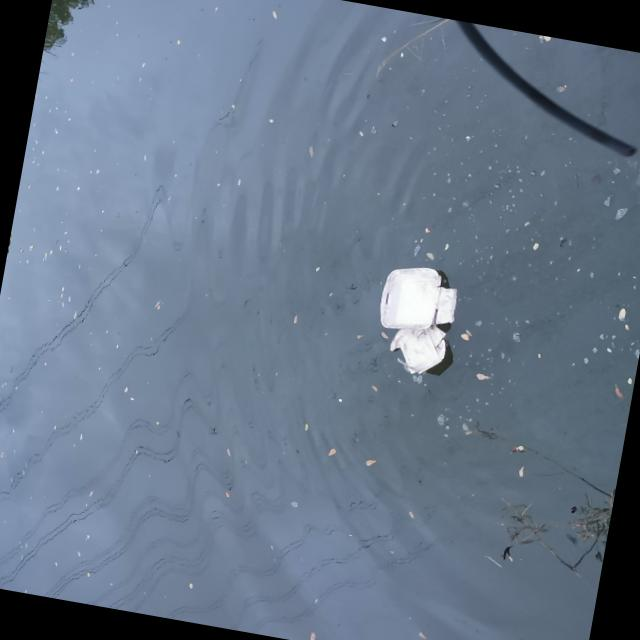foam: (376, 256, 461, 339), (383, 315, 452, 380)
